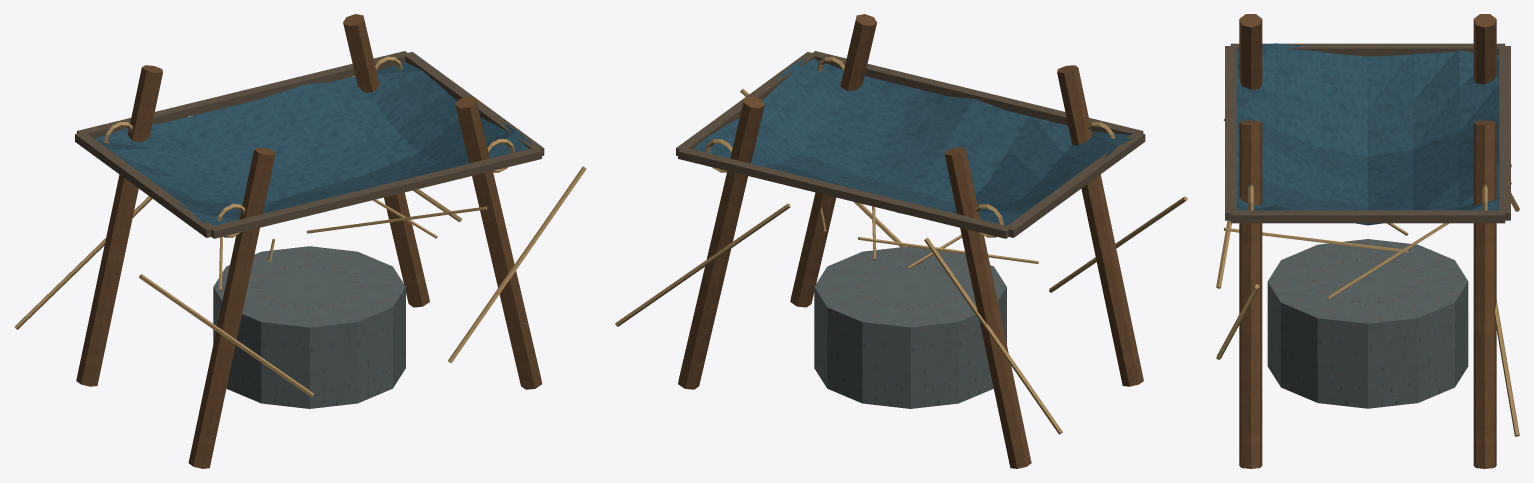
The model's file is pr-016_water_collector__empty.obj.
3 renders of one model, left to right at view 1: azimuth 30°, elevation 25°; view 2: azimuth 150°, elevation 25°; view 3: azimuth 270°, elevation 25°, orthographic. The views are drawn at different scales.
Visible parts, largest first — view 1: pr-016_water_collector__empty; view 2: pr-016_water_collector__empty; view 3: pr-016_water_collector__empty.
Part boxes in pixels (box(x1,y1,x2,y2)): pr-016_water_collector__empty: box(14, 14, 586, 468); pr-016_water_collector__empty: box(615, 14, 1187, 468); pr-016_water_collector__empty: box(1216, 14, 1519, 468).
Size of the model in its own units: 1.61 by 1.04 by 0.9078.
Materials: 5 (5 with a texture image).
